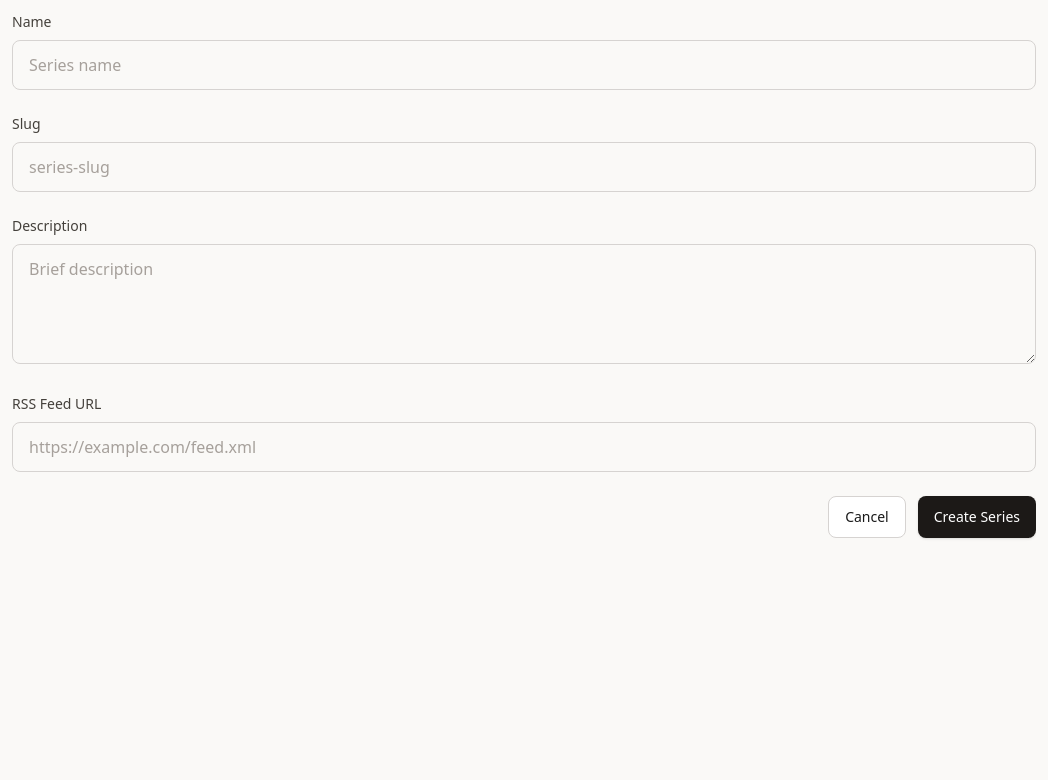
SeriesForm › auto-generates slug from name
Type "My New Series" into the field with placeholder "Series name". click: (524, 65)
box: left=12, top=40, right=1036, bottom=90
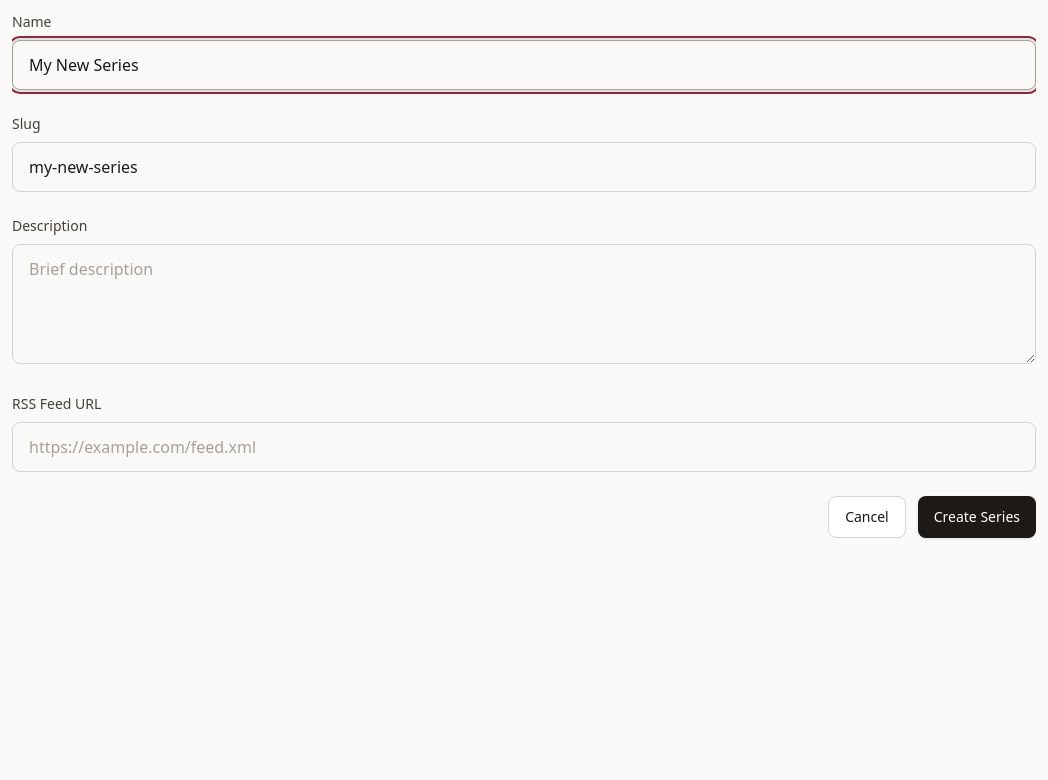
Now the field with placeholder "series-slug" below "Slug" holds "my-new-series", box left=12, top=142, right=1036, bottom=192
